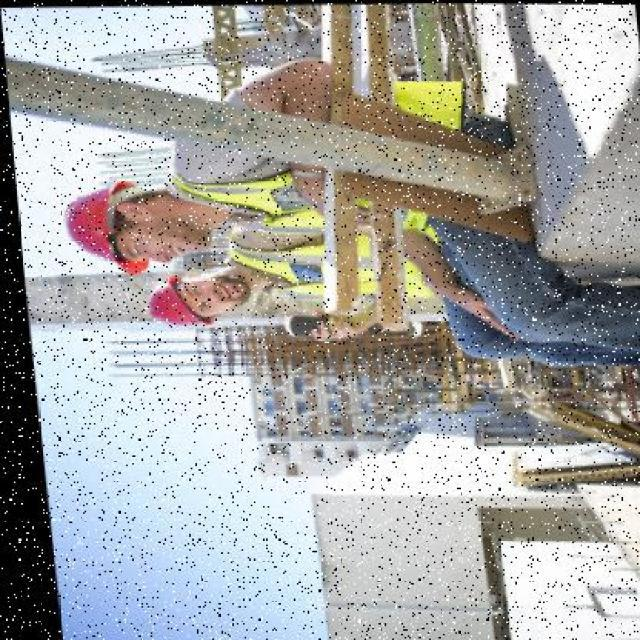helmet: (54, 169, 149, 273), (132, 263, 210, 334)
